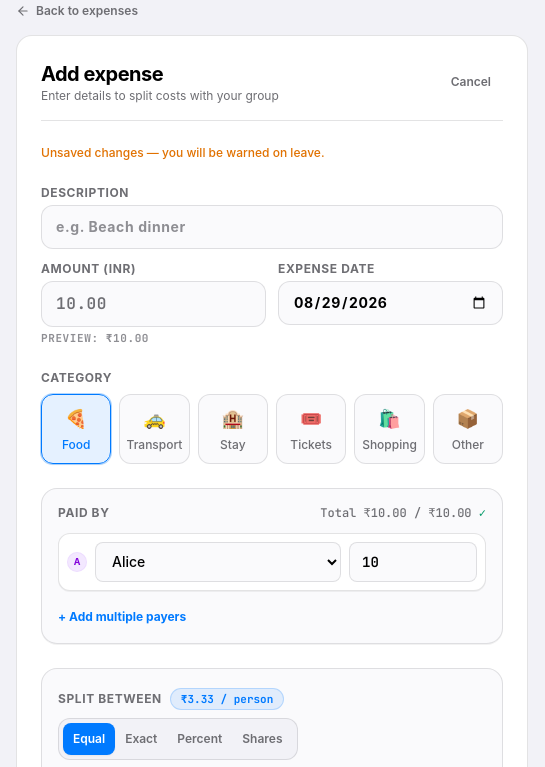
Test: ExpenseFormPage Interactive & State Machine Tests › percent split mode: editing percentages recalculates minor splits dynamically
Replace the text in the field labelled "Amount (INR) Preview: ₹10.00" with "100.00" at (154, 304), box [41,281,266,327]
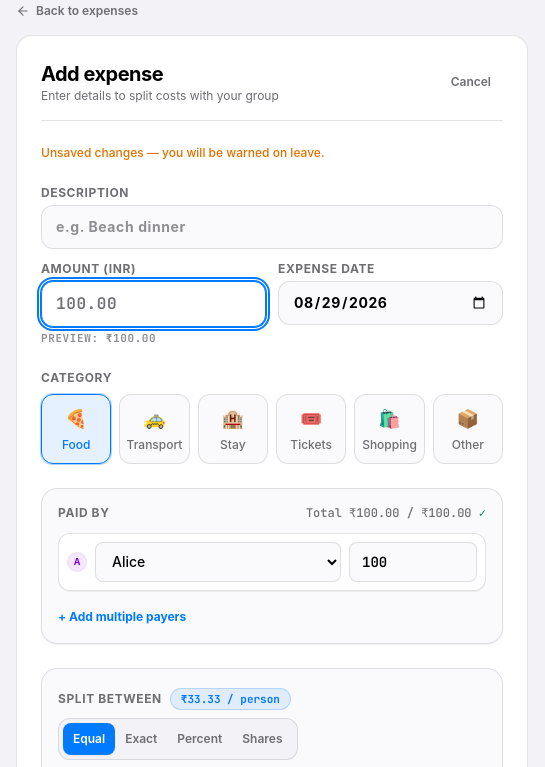
Note: Switch to percent mode
Click the button "percent" at (200, 739), box [167,723,232,755]
(page scrolled)
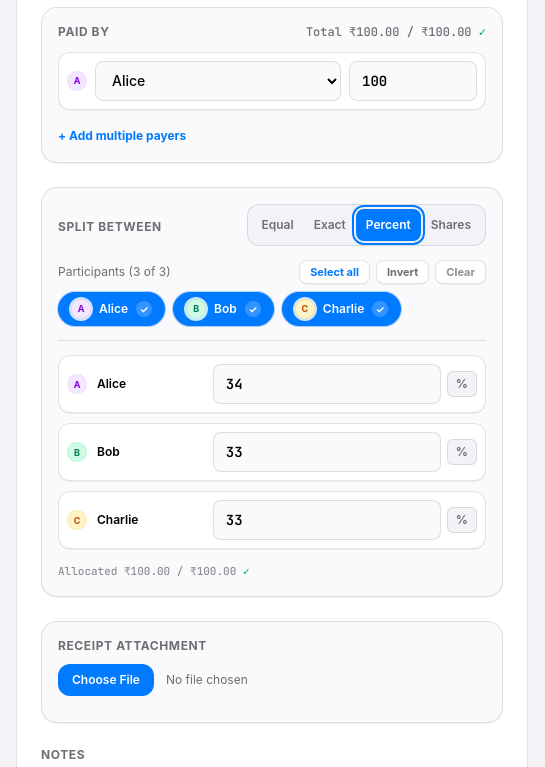
Expected: the number of number fields with placeholder "%" is 3
Replace the text in the number field with placeholder "%" with "50" at (327, 384), box [213,364,441,404]
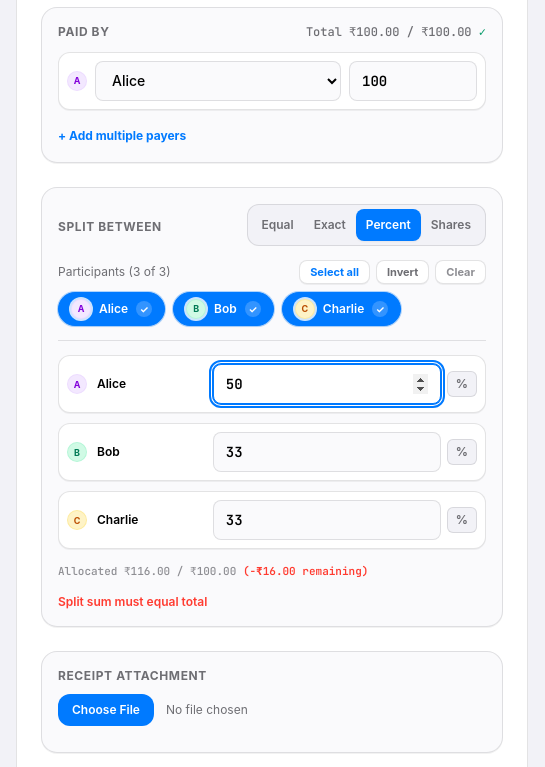
Replace the text in the number field with placeholder "%" with "30" at (327, 452), box [213,432,441,472]
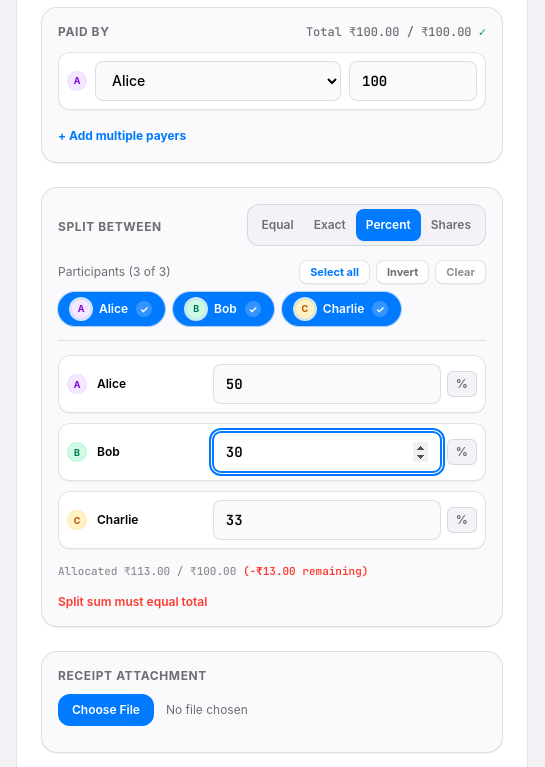
Replace the text in the number field with placeholder "%" with "20" at (327, 520), box [213,500,441,540]
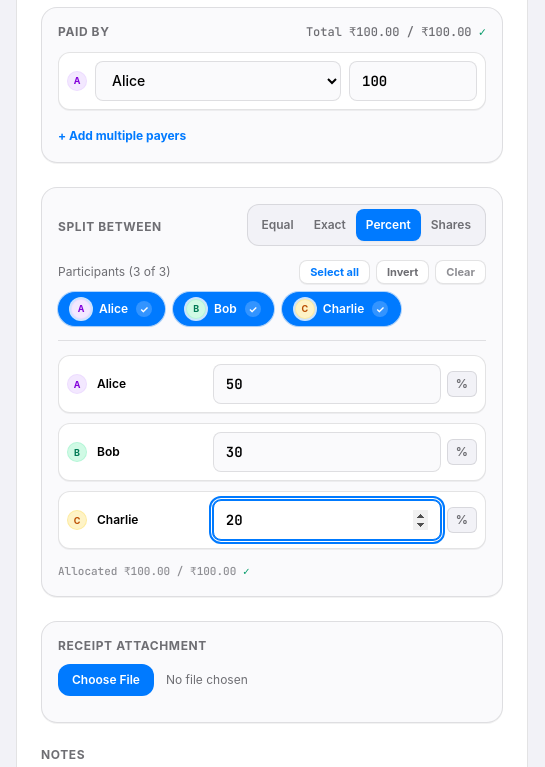
Expected: the text "Allocated ₹100.00 / ₹100.00 ✓" is shown, [58,564,250,578]
